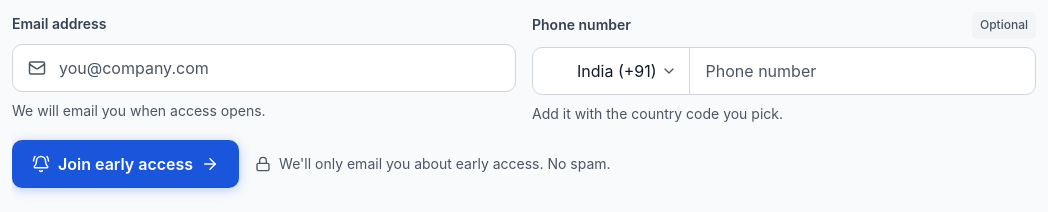
Test: NotifyForm: rejects malformed email addresses › shows the error and sends nothing for no @
In the field labelled "Email address": point(264, 68) top-left (12, 44), bottom-right (516, 92), type "plainaddress"
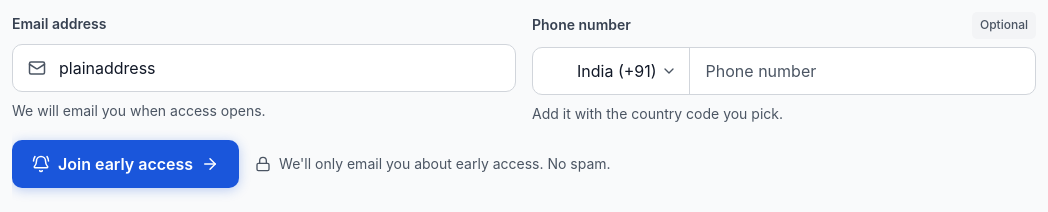
Click the button "Join early access": point(126, 164) top-left (12, 140), bottom-right (239, 188)
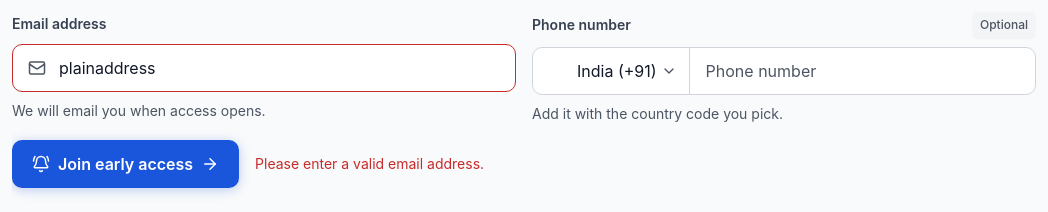
Expected: the text "Please enter a valid email address." is shown, top-left (255, 155), bottom-right (484, 172)
